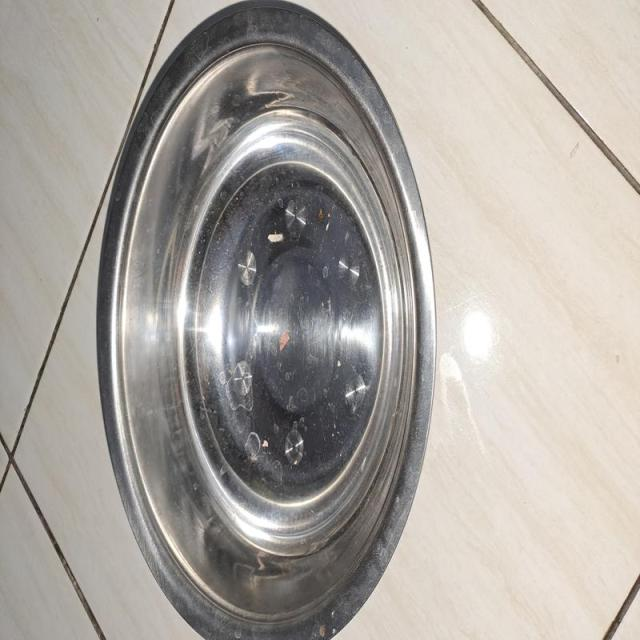Anorganik: (86, 0, 438, 640)
